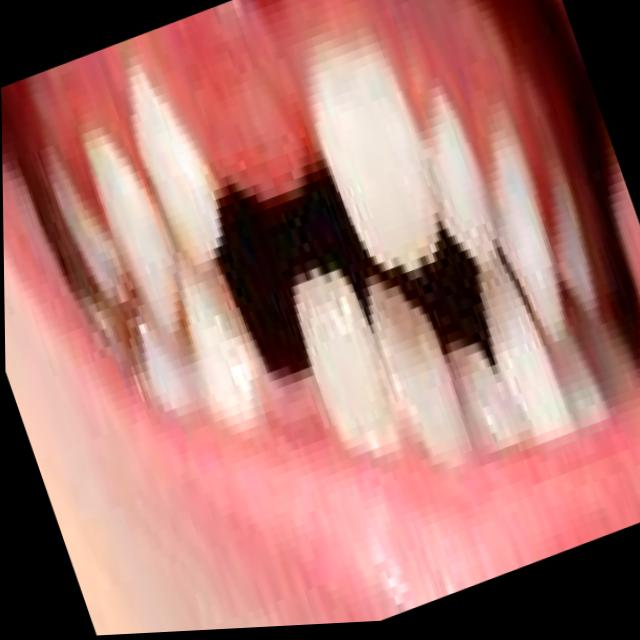calculus: (43, 146, 144, 383)
hypodontia: (176, 49, 370, 258), (211, 259, 344, 434)
